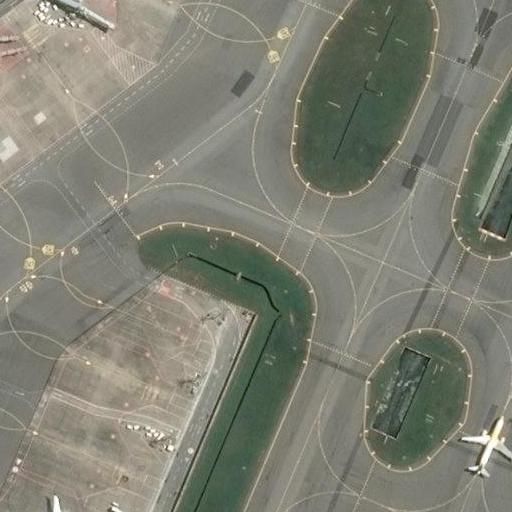Aircraft: (456, 408, 512, 479), (0, 491, 103, 512)
